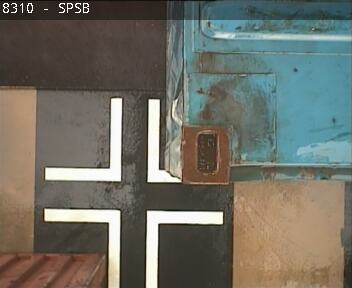groundmarker_1: (43, 206, 222, 288), (44, 100, 180, 183)
